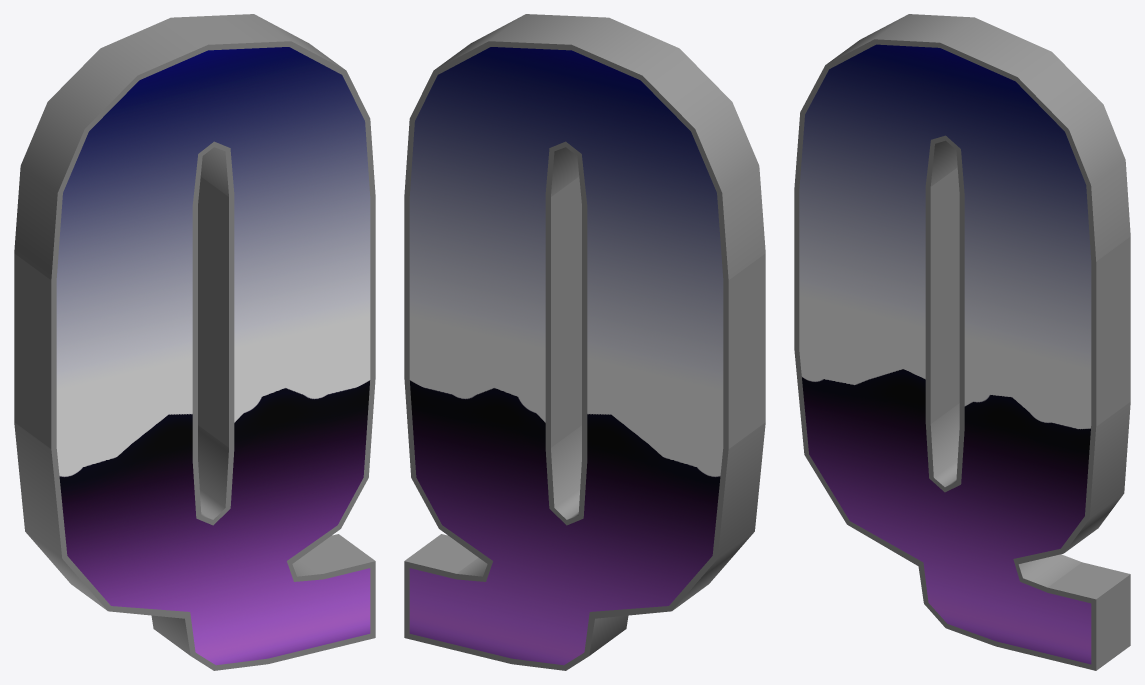
3 renders of one model, left to right at view 1: azimuth 30°, elevation 25°; view 2: azimuth 150°, elevation 25°; view 3: azimuth 330°, elevation 25°, orthographic. The views are drawn at different scales.
Visible parts, largest first — view 1: Q, Q_outline; view 2: Q, Q_outline; view 3: Q, Q_outline.
Boxes of the visible parts, bbox=[...] form: Q: bbox=[56, 47, 370, 665]; Q_outline: bbox=[14, 14, 375, 670]; Q: bbox=[409, 47, 723, 665]; Q_outline: bbox=[404, 14, 765, 670]; Q: bbox=[799, 44, 1091, 664]; Q_outline: bbox=[794, 14, 1130, 670].
Size of the model in its own units: 60.5 by 113 by 12.
Materials: 2 (1 with a texture image).
